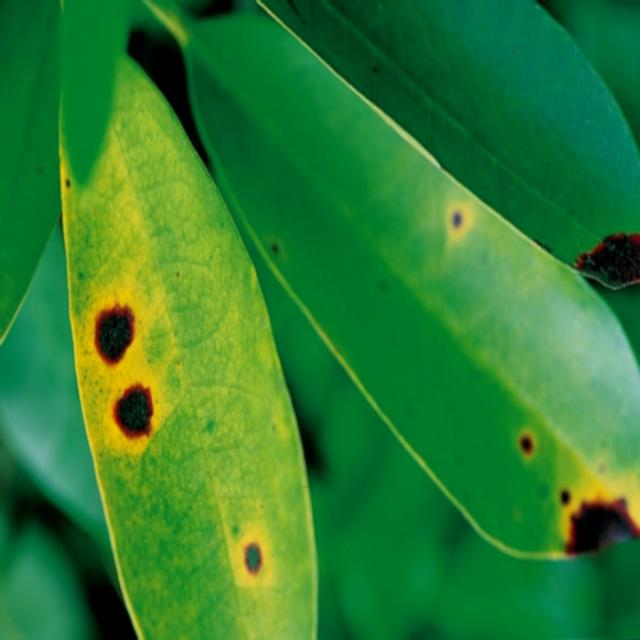Tar_Spot: (88, 184, 179, 507), (511, 398, 640, 555), (221, 485, 289, 632)
